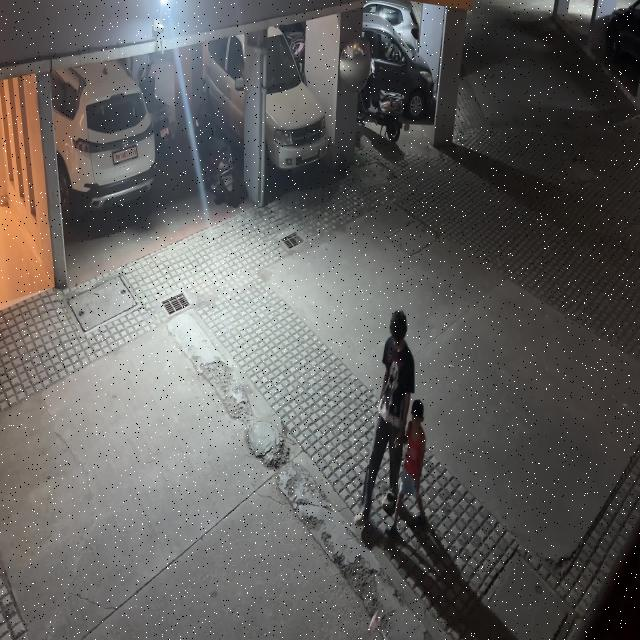human: (349, 301, 413, 528), (386, 383, 433, 540)
trash: (364, 606, 387, 638)
